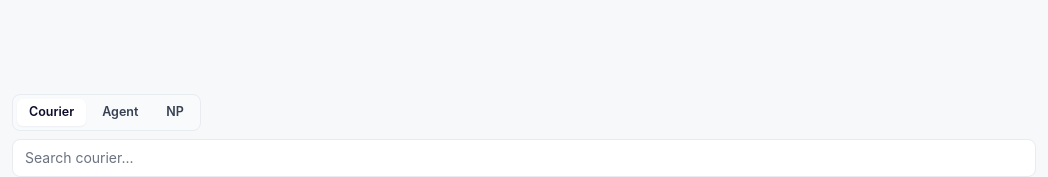
Scenario: AssignTargetPicker › shows the option list on input focus
This screenshot has width=1048, height=177.
(page scrolled)
Focus the field with placeholder "Search courier..." at coordinates (524, 158), box [12,139,1036,176]
(page scrolled)
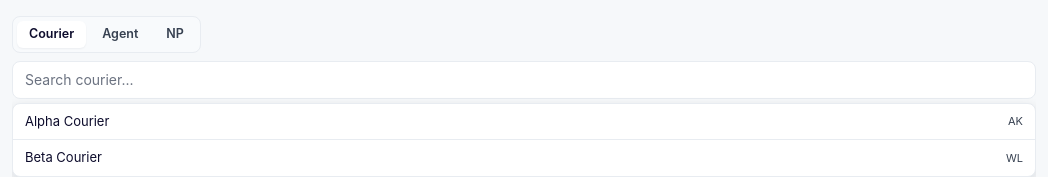
Expected: the button "Alpha Courier AK" is shown, [13,104,1035,140]
Expected: the button "Beta Courier WL" is shown, [13,140,1035,176]
